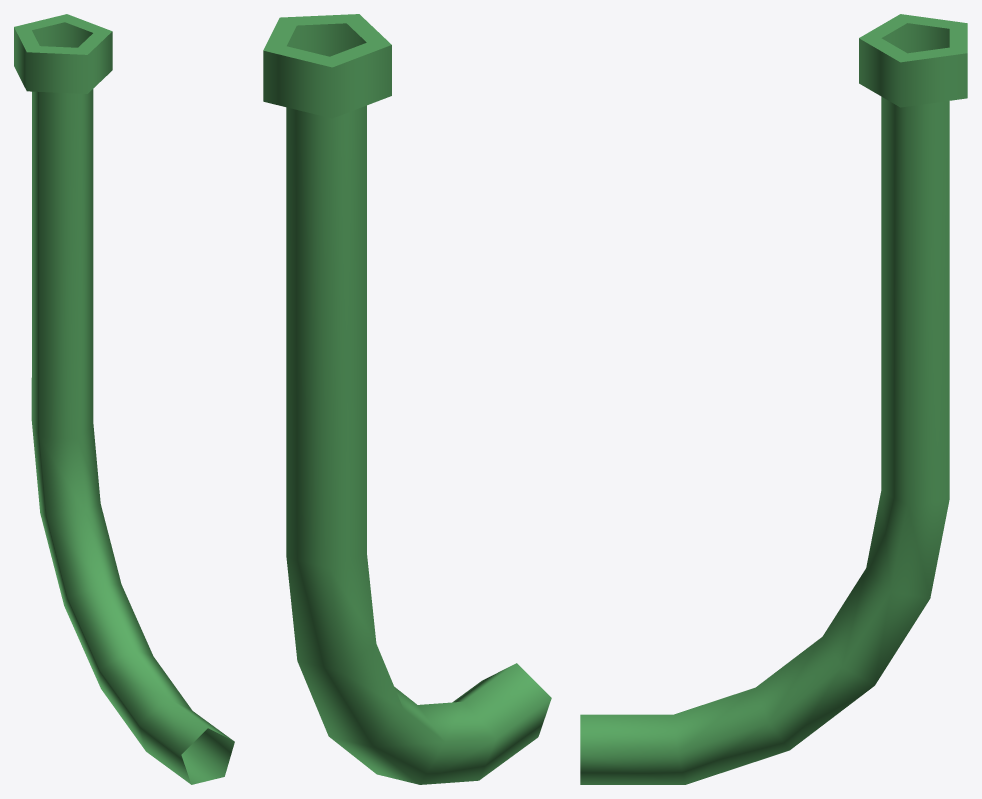
Rendered from SPipeF_1.fbx.
3 renders of one model, left to right at view 1: azimuth 30°, elevation 25°; view 2: azimuth 150°, elevation 25°; view 3: azimuth 270°, elevation 25°, orthographic. The views are drawn at different scales.
Parts seen in each view (by area): view 1: SPipeF_1; view 2: SPipeF_1; view 3: SPipeF_1.
Part boxes in pixels (bbox=[...]): SPipeF_1: bbox=[14, 14, 234, 784]; SPipeF_1: bbox=[263, 14, 551, 784]; SPipeF_1: bbox=[580, 14, 967, 784].
Size of the model in its own units: 16.55 by 118 by 56.01.
